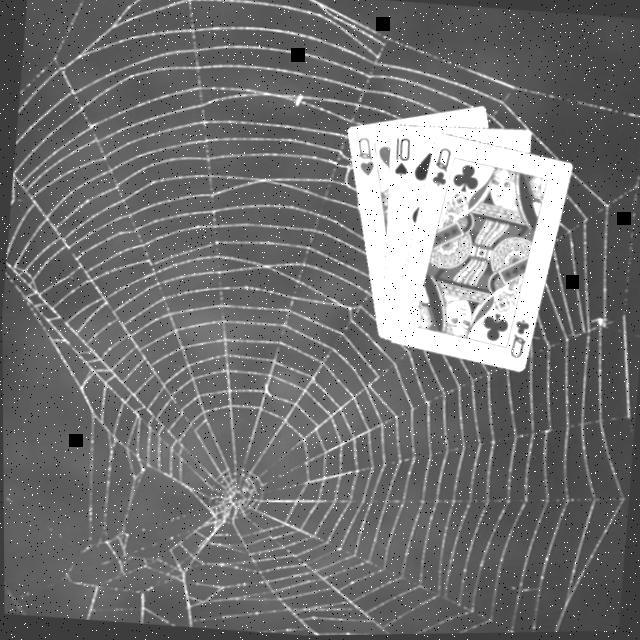10S: (390, 132, 415, 180)
QC: (428, 142, 456, 190), (507, 313, 535, 361)
QH: (352, 130, 380, 178)
